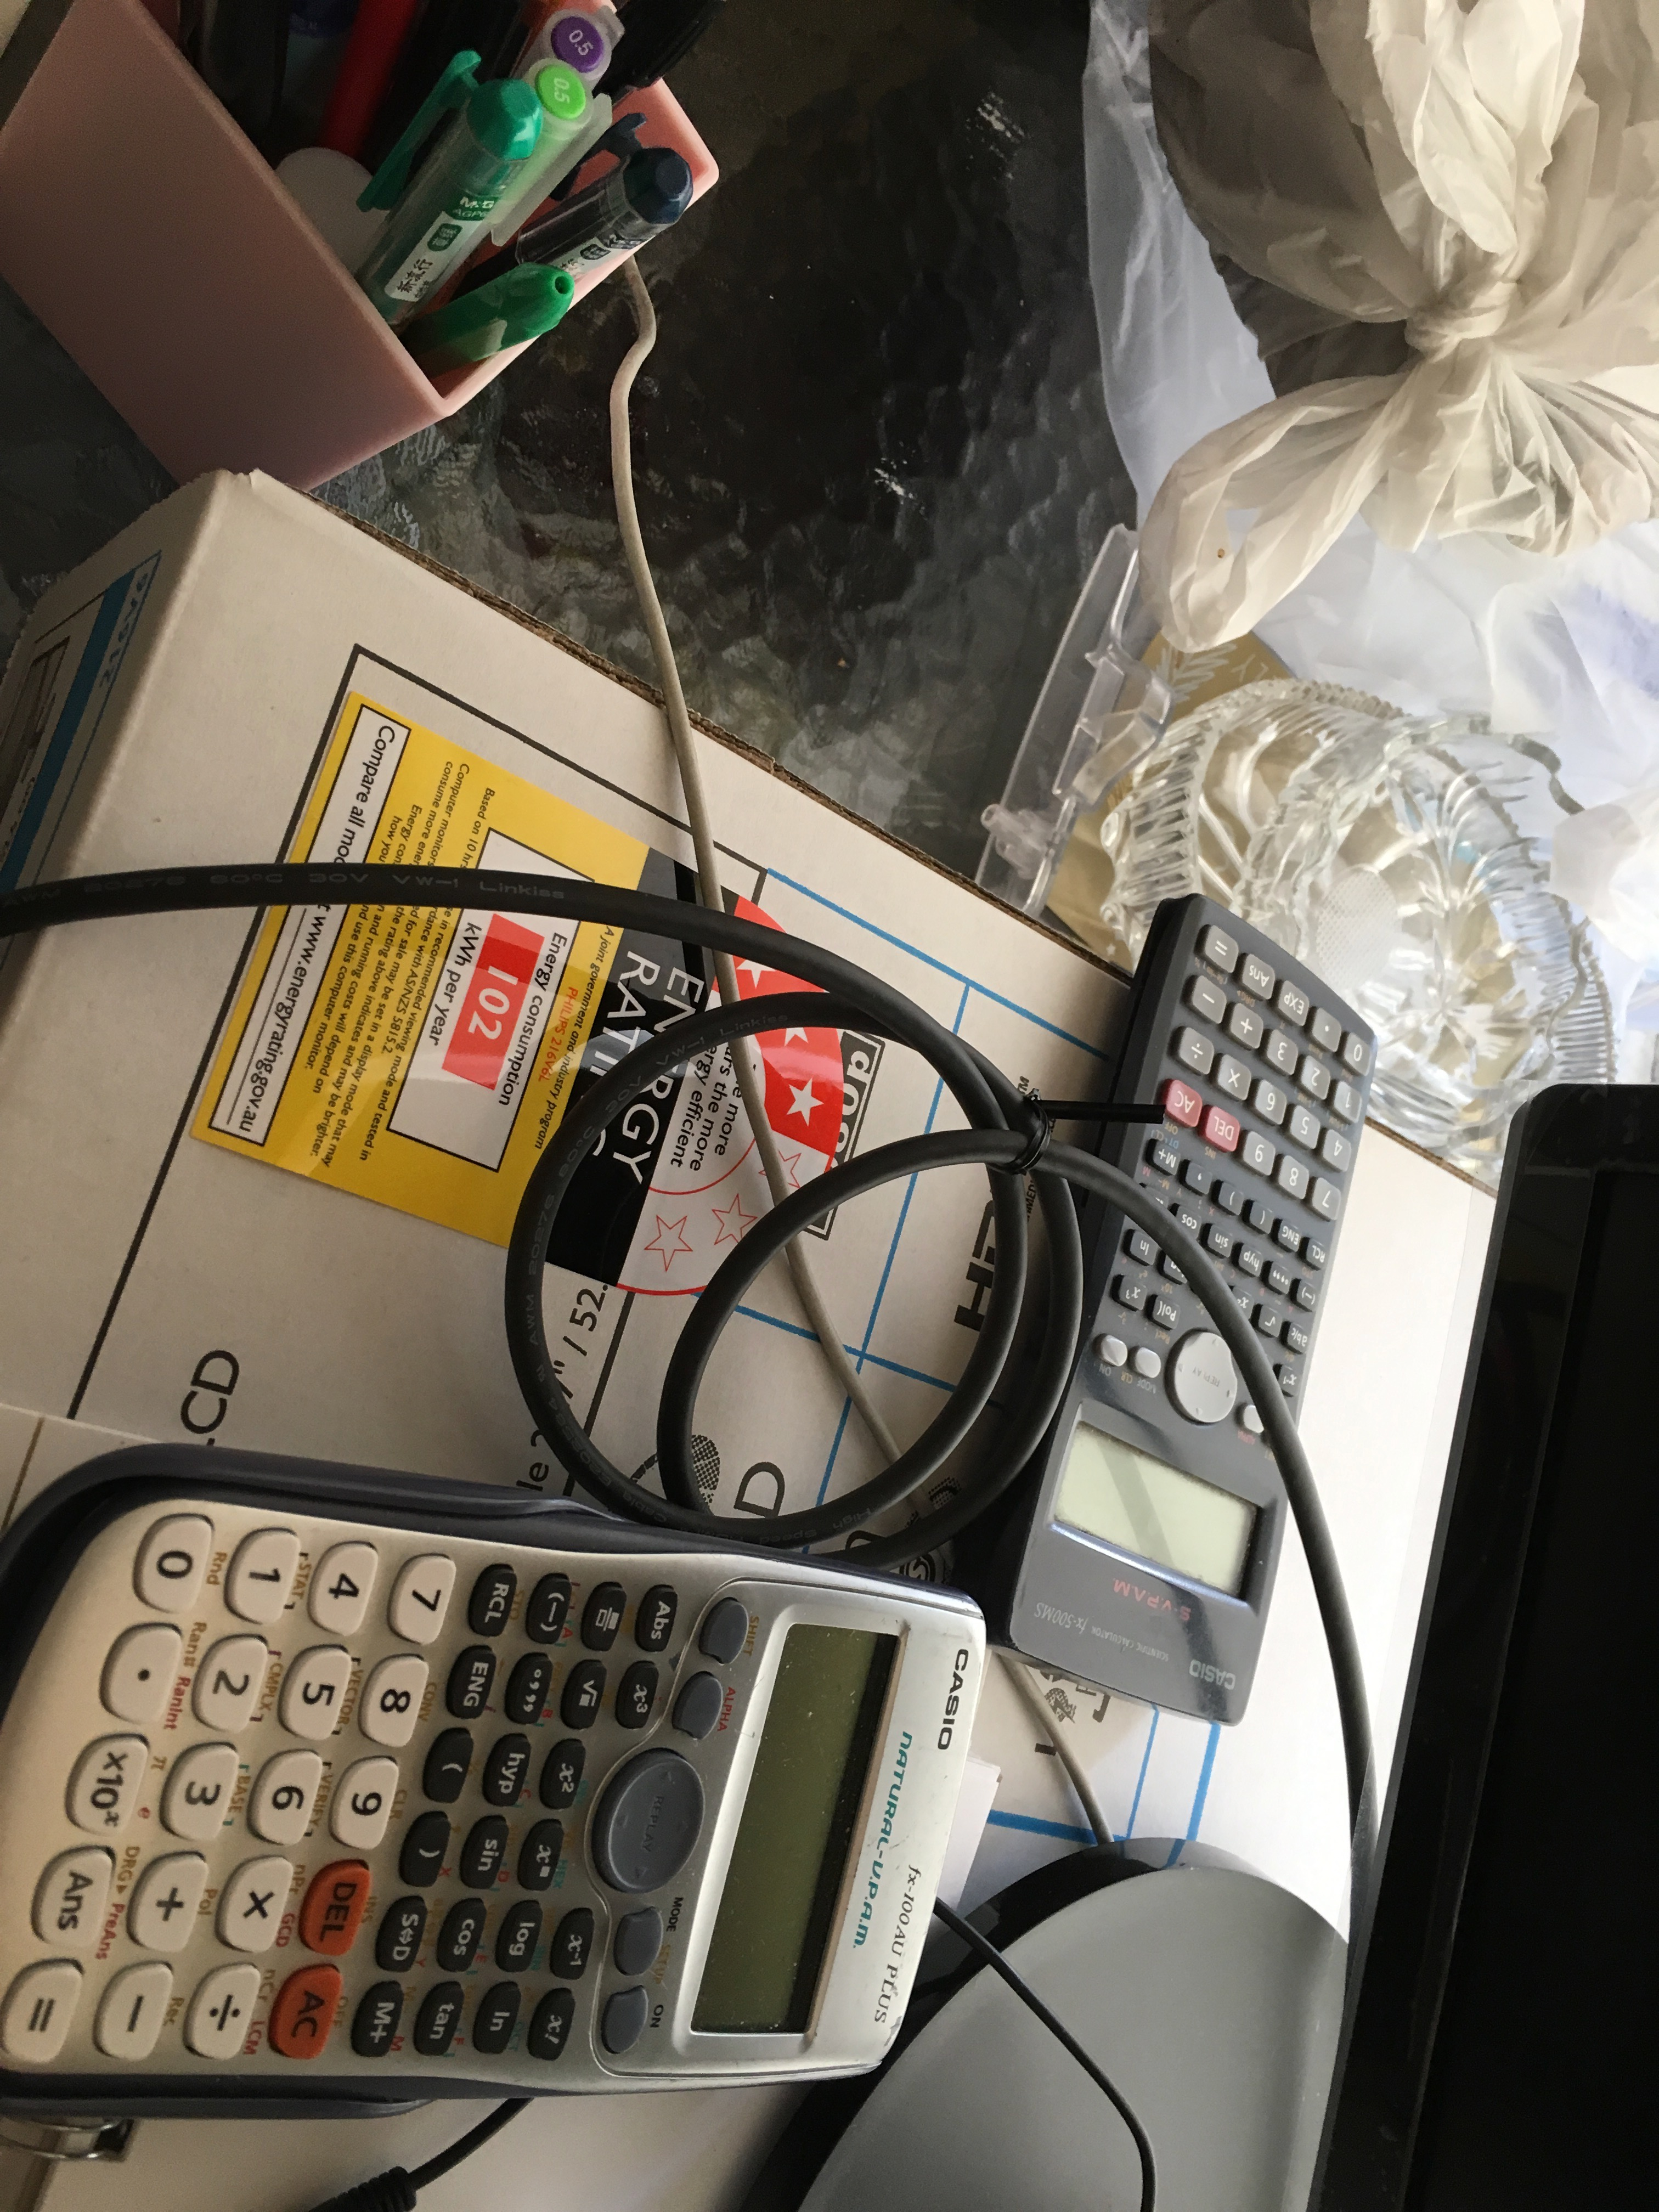Calculator: (0, 1430, 1000, 2125), (976, 894, 1389, 1733)
